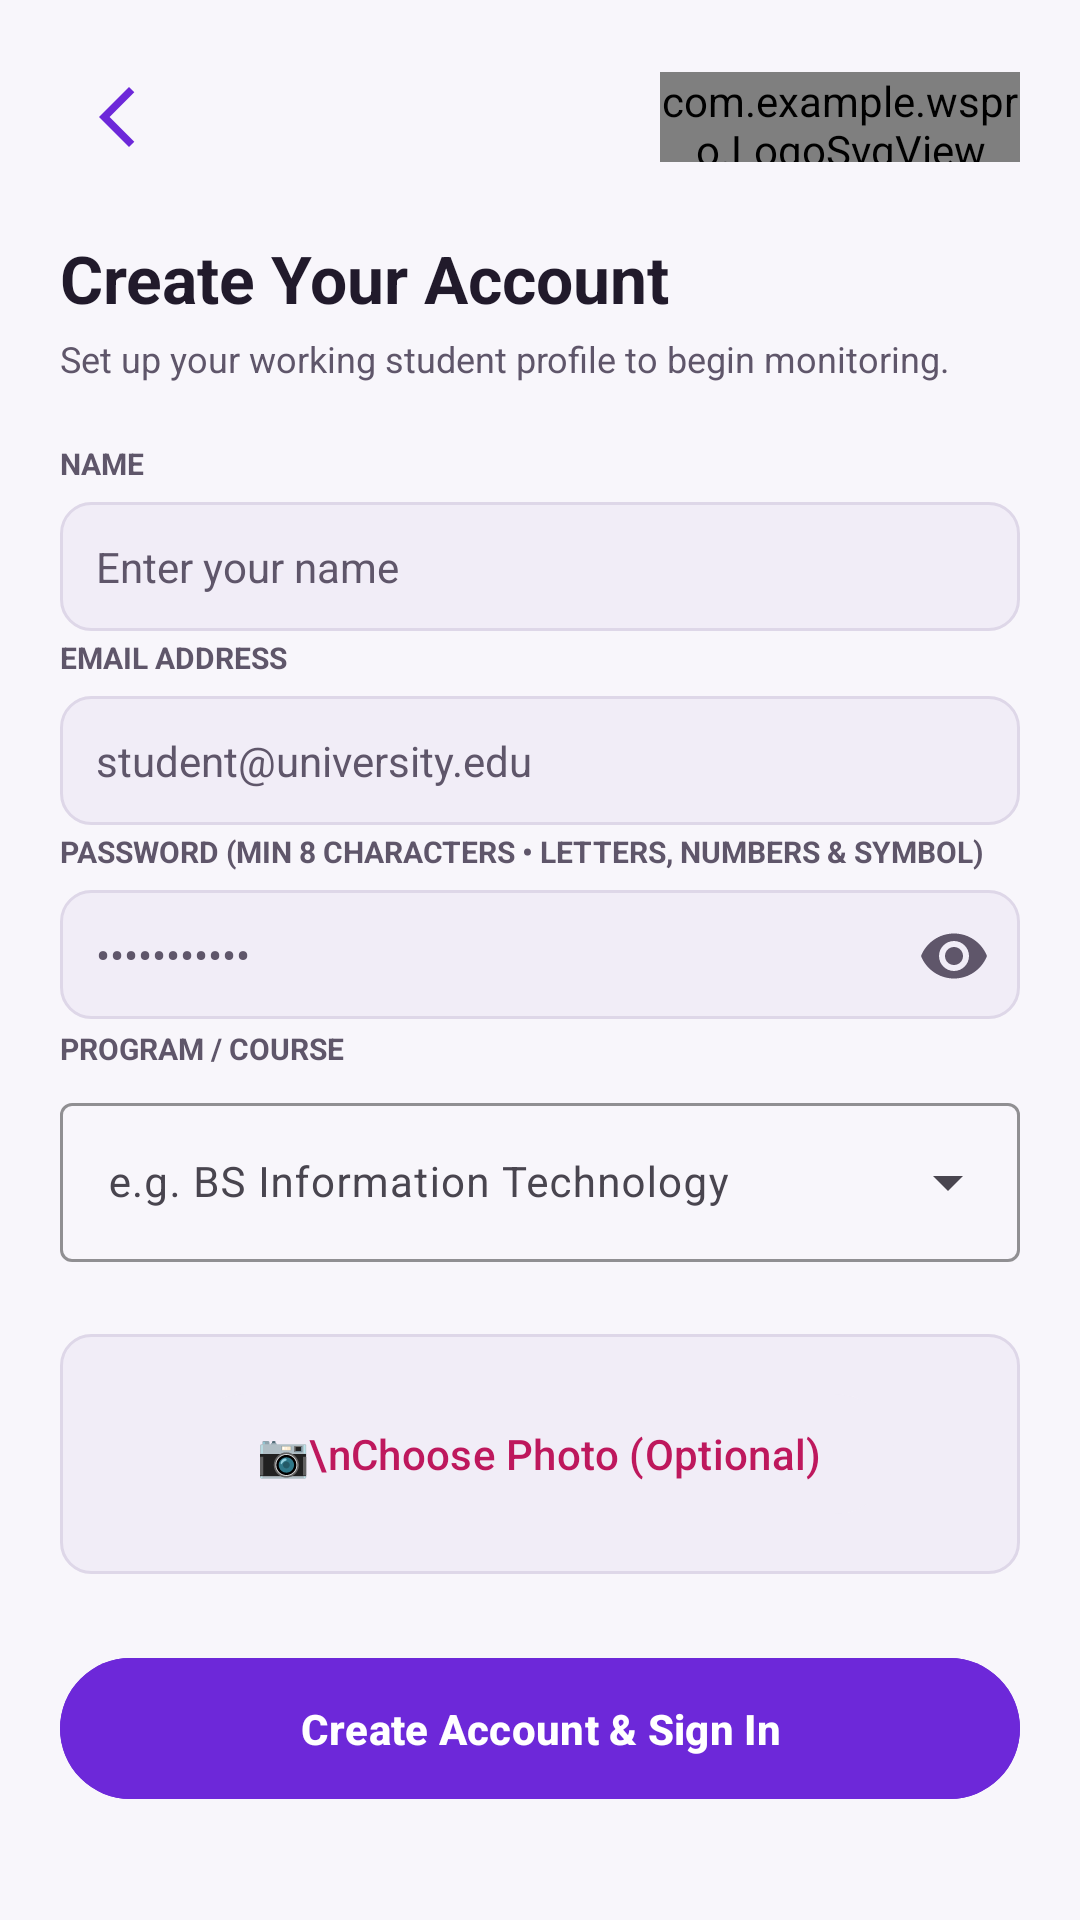

Where to tap for icons on this 1080 × 1920 app screen, as (x,y):
Return back: (116,117)
Show password: (954,956)
